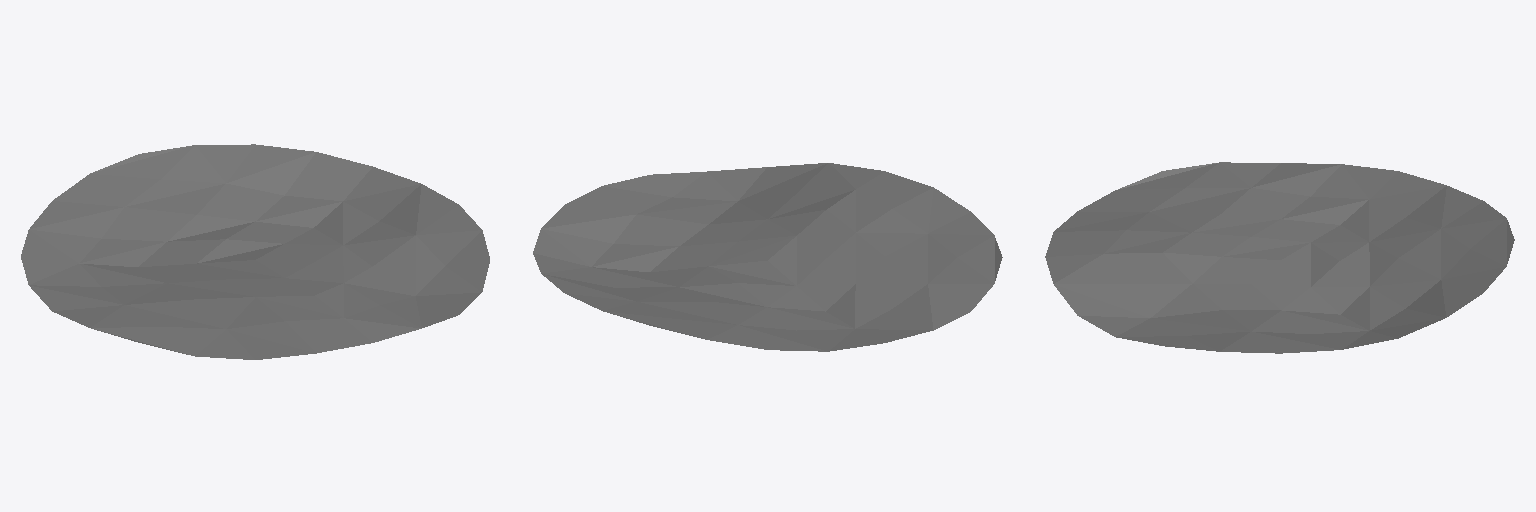
Rendered from stewLiquid.obj.
3 views of the same model, side by side, from view 1: azimuth 30°, elevation 25°; view 2: azimuth 150°, elevation 25°; view 3: azimuth 270°, elevation 25° (orthographic).
Parts seen in each view (by area): view 1: stewLiquid; view 2: stewLiquid; view 3: stewLiquid.
Part boxes in pixels (bbox=[...]): stewLiquid: bbox=[21, 144, 489, 359]; stewLiquid: bbox=[533, 163, 1002, 351]; stewLiquid: bbox=[1045, 162, 1514, 353].
Bounding box in the file's own units: 1.93 × 0.1451 × 1.93.